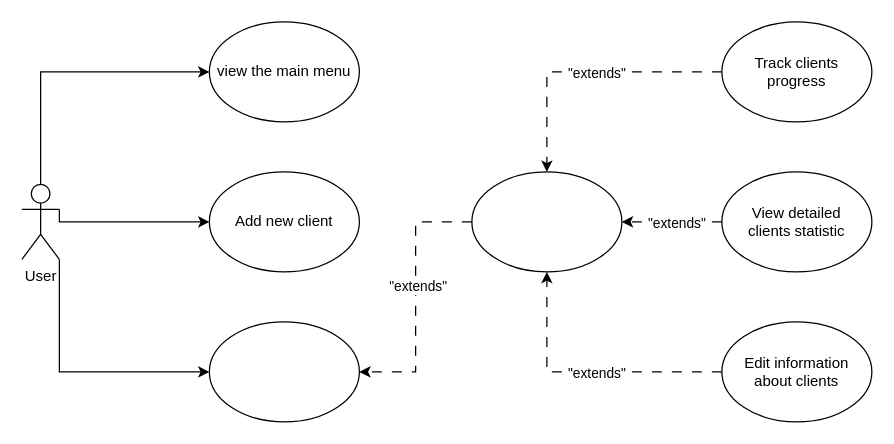
Some shapes in this 894 by 444 pixel diagram are drawn without their labels. The centre of each missing label's shape, as x and y in pixels:
View clients list: [283,371]
View information about client: [546,221]
